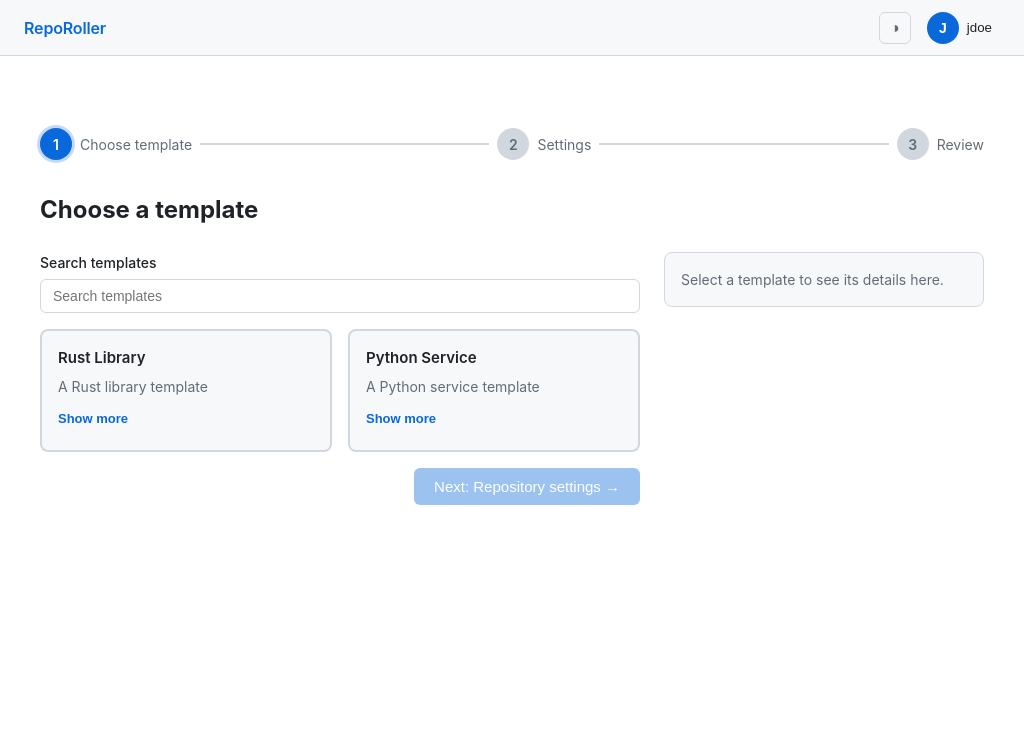
Test: Create wizard (SCR-004) › retreatStep from Review (no variables) returns to Settings and preserves the repository name (UX-ASSERT-014, generalized)
This screenshot has width=1024, height=739.
Click the radio button with aria-label "rust-library" at (186, 390), box left=40, top=329, right=332, bottom=452
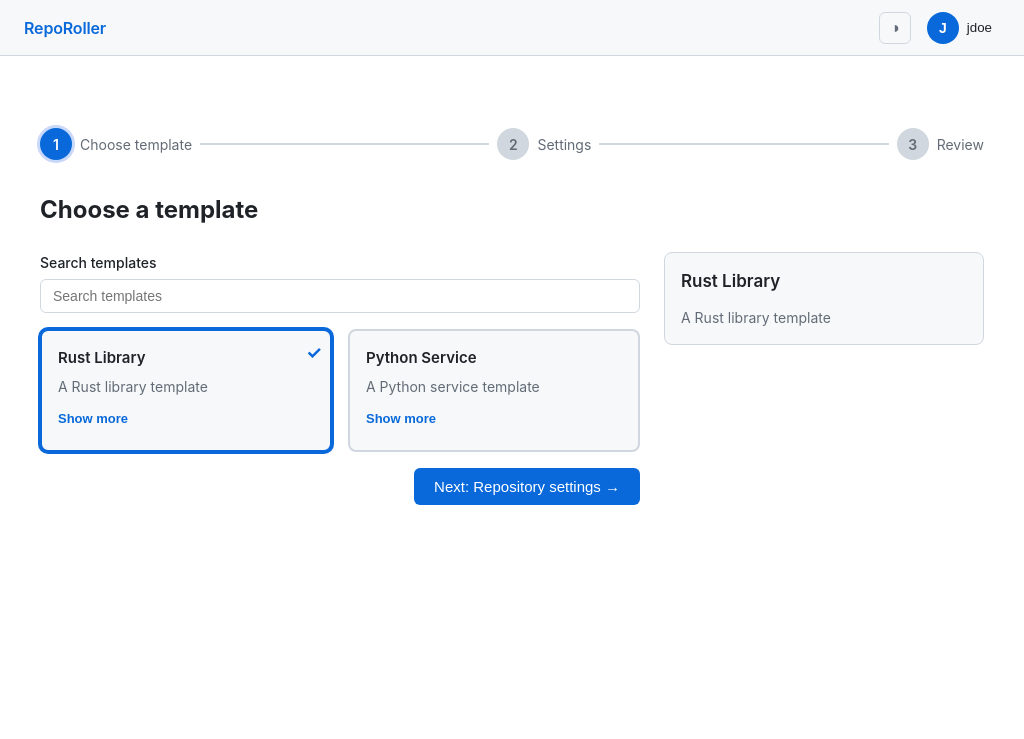
Click the button "Next: Repository settings →" at (527, 486), box left=414, top=468, right=640, bottom=504
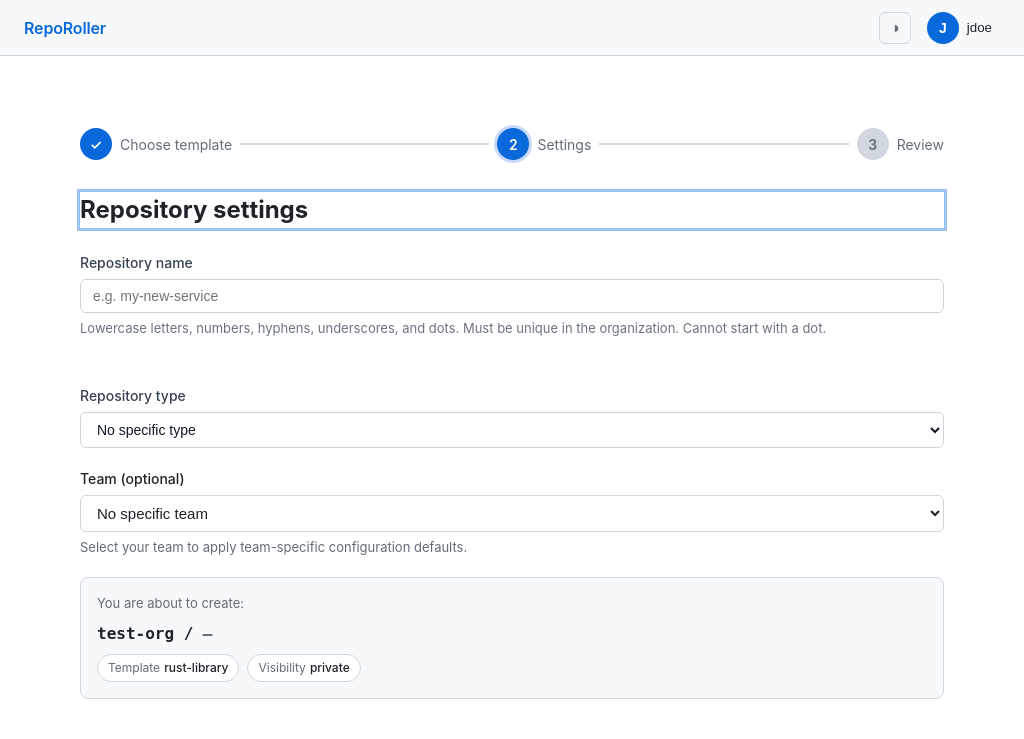
Now the heading reads "Repository settings", box left=80, top=195, right=308, bottom=224
Type "my-rust-lib" into the field labelled "Repository name" at (512, 296), box left=80, top=279, right=944, bottom=313
(page scrolled)
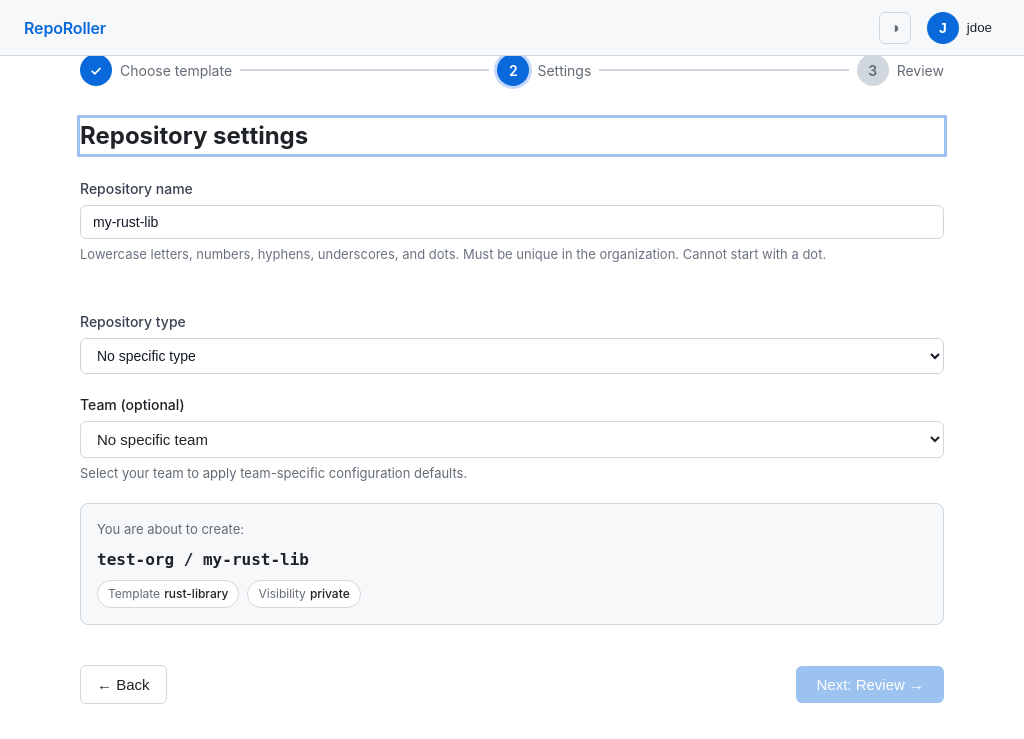
Click the button "Next: Review →" at (870, 684), box left=796, top=666, right=944, bottom=702
(page scrolled)
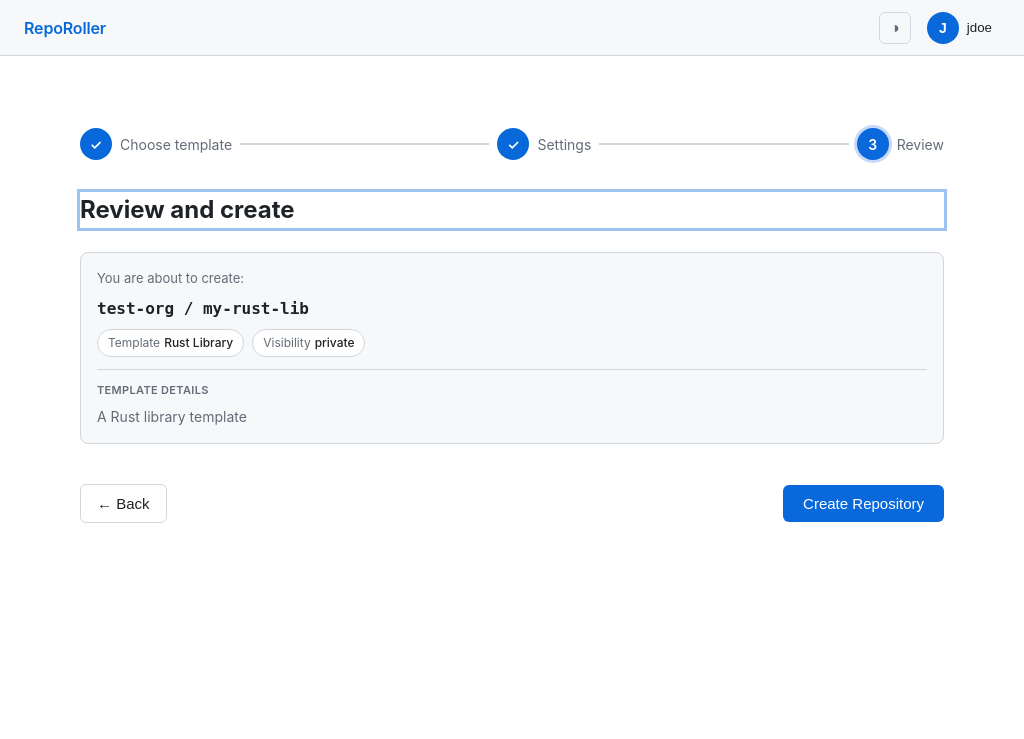
Now the heading "Review and create" is shown, box left=80, top=192, right=944, bottom=228
Click the button "← Back" at (123, 504), box left=80, top=484, right=166, bottom=523
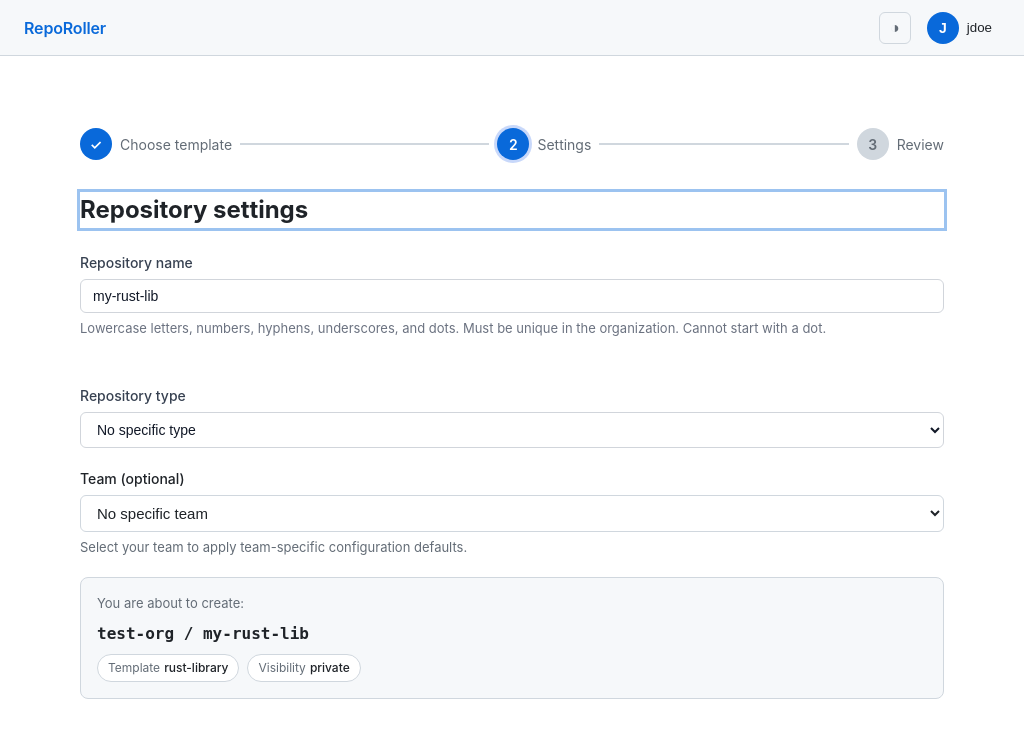
Now the heading reads "Repository settings", box left=80, top=195, right=308, bottom=224
Now the field labelled "Repository name" holds "my-rust-lib", box left=80, top=279, right=944, bottom=313
